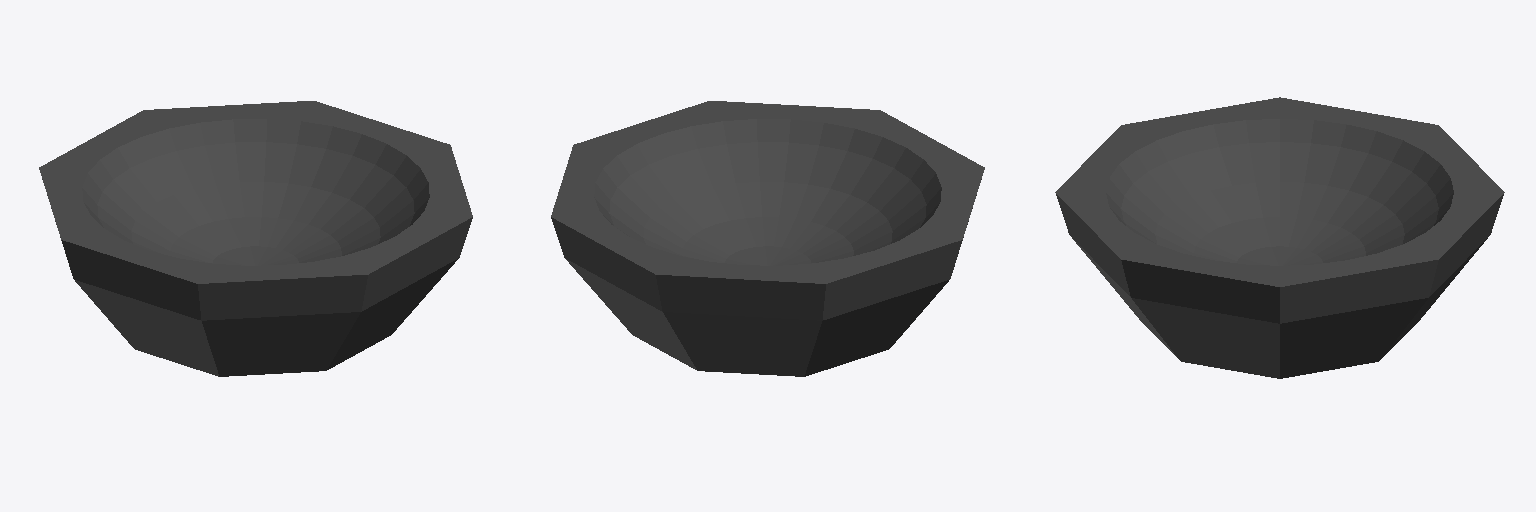
Rendered from agate_mortar.obj.
The picture shows the model from 3 angles: view 1: azimuth 30°, elevation 25°; view 2: azimuth 150°, elevation 25°; view 3: azimuth 270°, elevation 25°; orthographic projection.
Visible parts, largest first — view 1: agate_mortar; view 2: agate_mortar; view 3: agate_mortar.
Part boxes in pixels (bbox=[...]): agate_mortar: bbox=[39, 101, 472, 376]; agate_mortar: bbox=[551, 101, 984, 376]; agate_mortar: bbox=[1055, 97, 1504, 378].
Bounding box in the file's own units: 62.99 × 19.68 × 62.99.